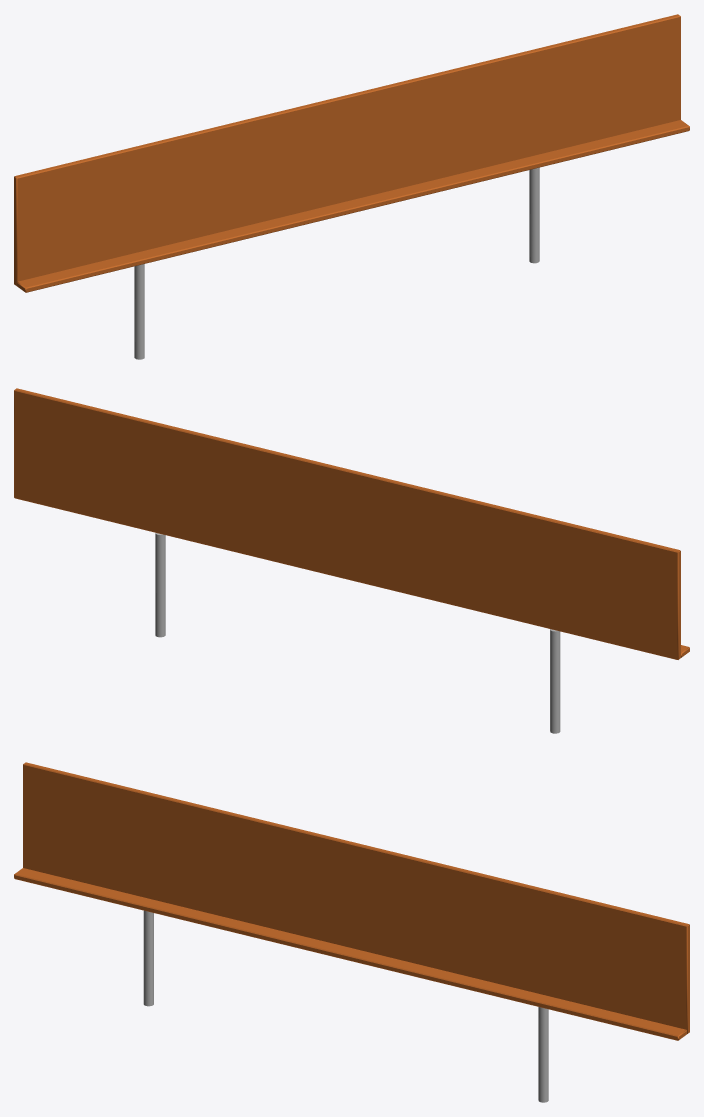
Rendered from stacker_ending_gate.glb.
The picture shows the model from 3 angles, top to bottom: view 1: azimuth 30°, elevation 25°; view 2: azimuth 150°, elevation 25°; view 3: azimuth 330°, elevation 25°; orthographic projection.
Visible parts, largest first — view 1: EndingGate, EndingGateRods; view 2: EndingGate, EndingGateRods; view 3: EndingGate, EndingGateRods.
Boxes of the visible parts, left/top/right/bottom form: EndingGate: left=14, top=14, right=689, bottom=292; EndingGateRods: left=134, top=167, right=539, bottom=359; EndingGate: left=14, top=388, right=689, bottom=659; EndingGateRods: left=155, top=532, right=560, bottom=733; EndingGate: left=14, top=762, right=689, bottom=1040; EndingGateRods: left=143, top=910, right=548, bottom=1102.
Size of the model in its own units: 1.6 by 0.485 by 0.055.
